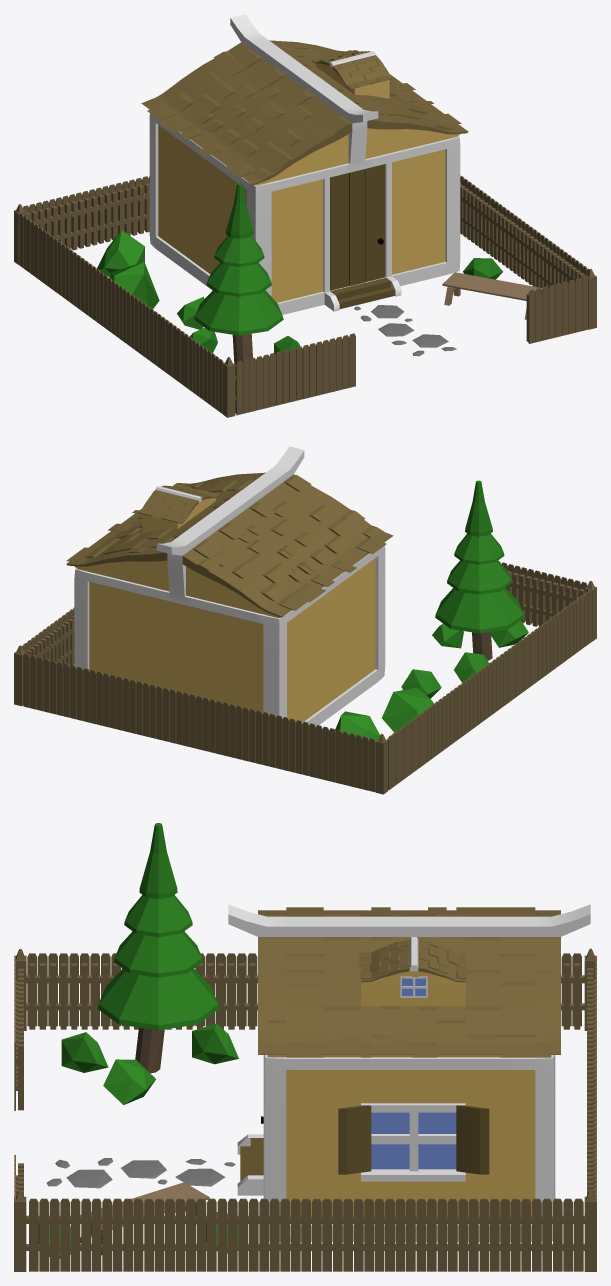
Rendered from 2lvl_yellow.fbx.
The picture shows the model from 3 angles, top to bottom: view 1: azimuth 30°, elevation 25°; view 2: azimuth 150°, elevation 25°; view 3: azimuth 270°, elevation 25°; orthographic projection. The views are drawn at different scales.
Visible parts, largest first — view 1: lvl_yellow; view 2: lvl_yellow; view 3: lvl_yellow.
Part boxes in pixels (x1=…): lvl_yellow: x1=14, y1=14, x2=596, y2=417; lvl_yellow: x1=14, y1=446, x2=596, y2=794; lvl_yellow: x1=14, y1=823, x2=596, y2=1271.
Bounding box in the file's own units: 95.66 × 47.84 × 95.74.
